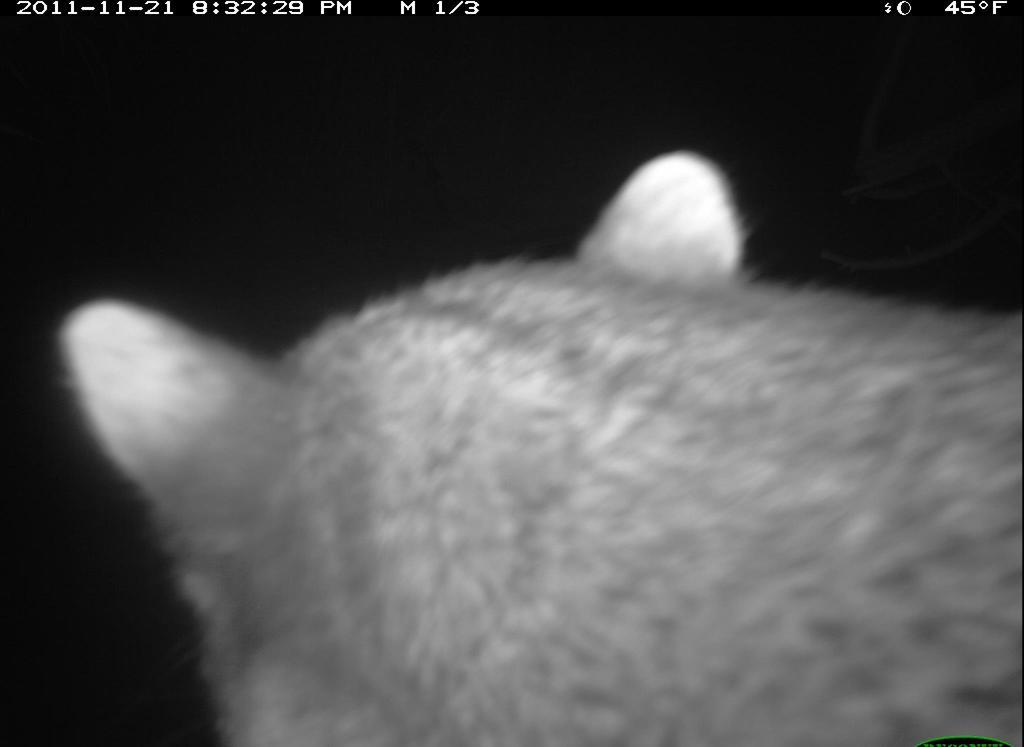raccoon: (56, 150, 1019, 744)
